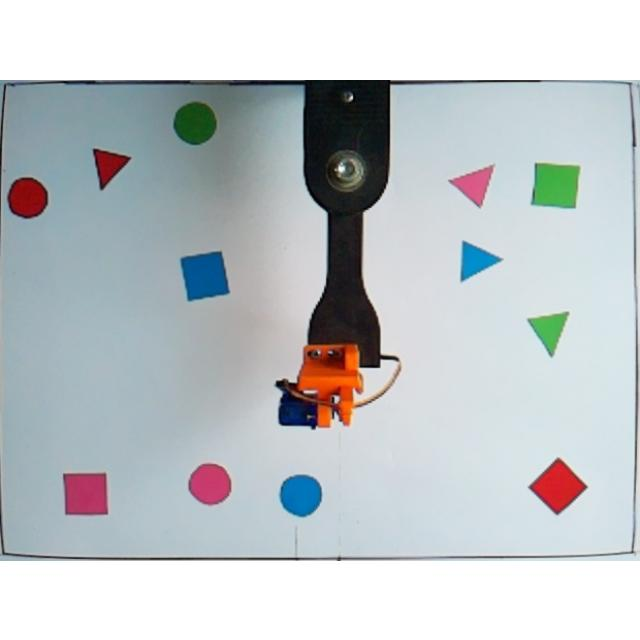blueCircle: (278, 468, 324, 518)
blueSquare: (176, 248, 232, 302)
blueTriangle: (454, 236, 504, 284)
greenCircle: (170, 98, 220, 146)
greenSquare: (528, 160, 582, 210)
greenTriangle: (526, 307, 574, 357)
pinkCircle: (184, 459, 233, 506)
pinkSquare: (61, 468, 110, 516)
pinkTriangle: (448, 159, 497, 209)
redCircle: (6, 173, 50, 219)
redSquare: (526, 454, 588, 516)
redTriangle: (88, 144, 132, 192)
